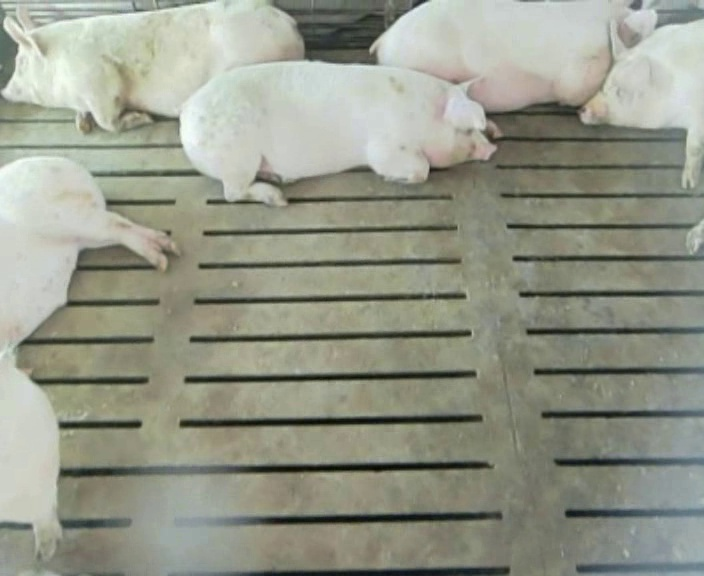pig: (180, 61, 495, 205), (2, 2, 303, 132), (0, 158, 178, 355), (581, 19, 703, 188)
